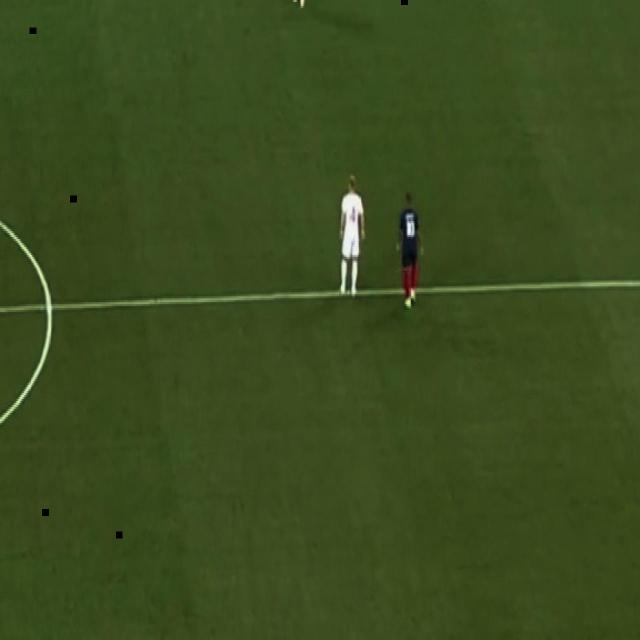player-white: (335, 174, 369, 304), (394, 186, 426, 318), (285, 0, 311, 10)
